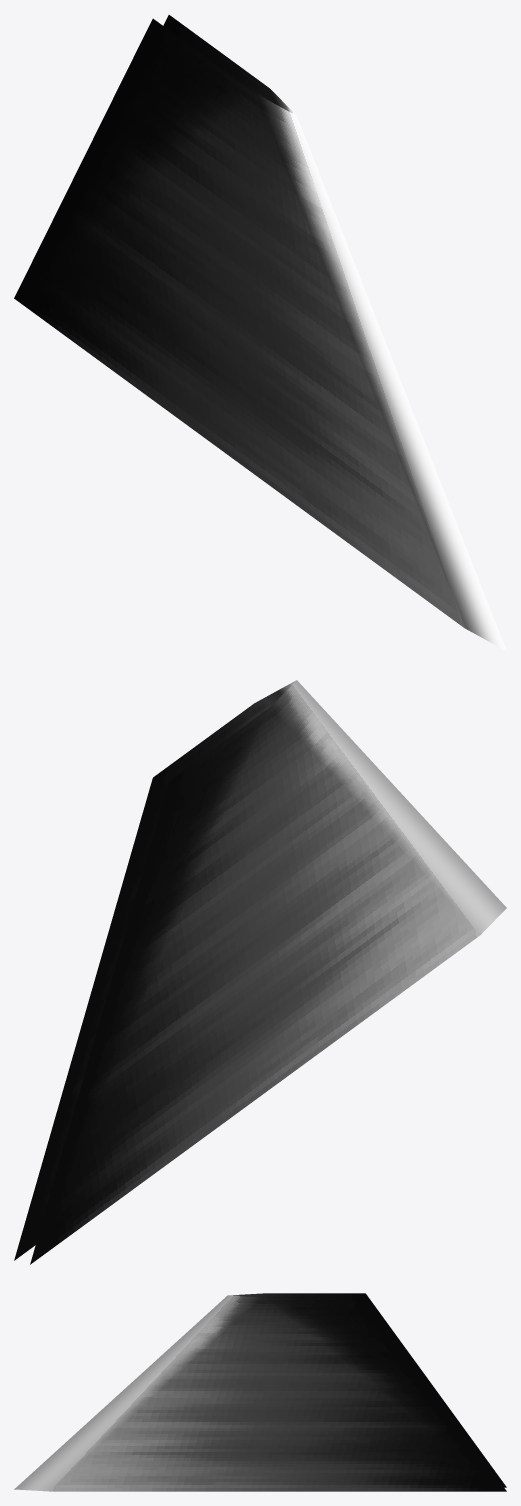
Rendered from WpnKirbyFinalcutter.obj.
3 views of the same model, one above another, from view 1: azimuth 30°, elevation 25°; view 2: azimuth 150°, elevation 25°; view 3: azimuth 270°, elevation 25° (orthographic). The views are drawn at different scales.
Visible parts, largest first — view 1: polygon0; view 2: polygon0; view 3: polygon0.
Boxes of the visible parts, x1=… form: polygon0: x1=14, y1=15, x2=506, y2=651; polygon0: x1=14, y1=680, x2=506, y2=1264; polygon0: x1=14, y1=1293, x2=506, y2=1491.
Bounding box in the file's own units: 0.5547 × 12.65 × 29.12.
Materials: 2 (2 with a texture image).
